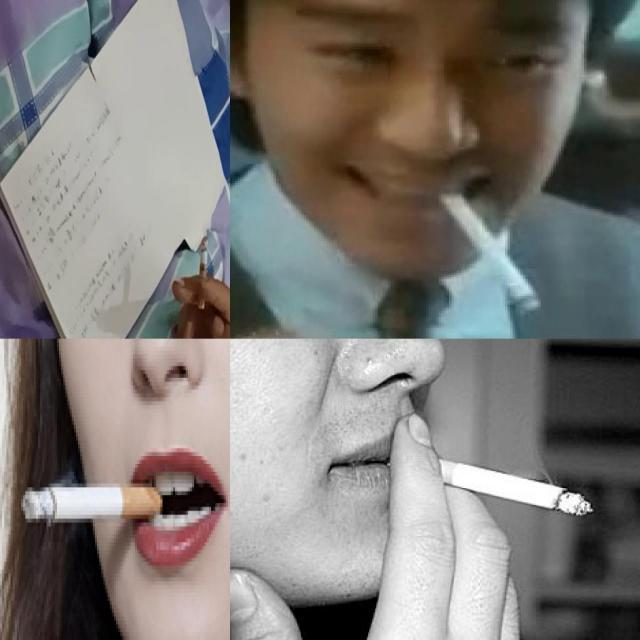smoke: (434, 190, 544, 318), (390, 452, 594, 517), (20, 483, 164, 522), (198, 236, 208, 310)
